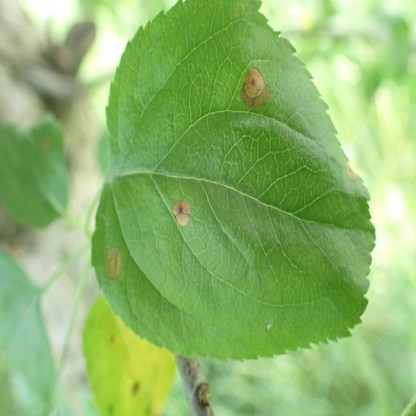frogeye_leaf_spot: (241, 68, 270, 108), (107, 247, 121, 280), (173, 201, 190, 226), (346, 161, 357, 182)
